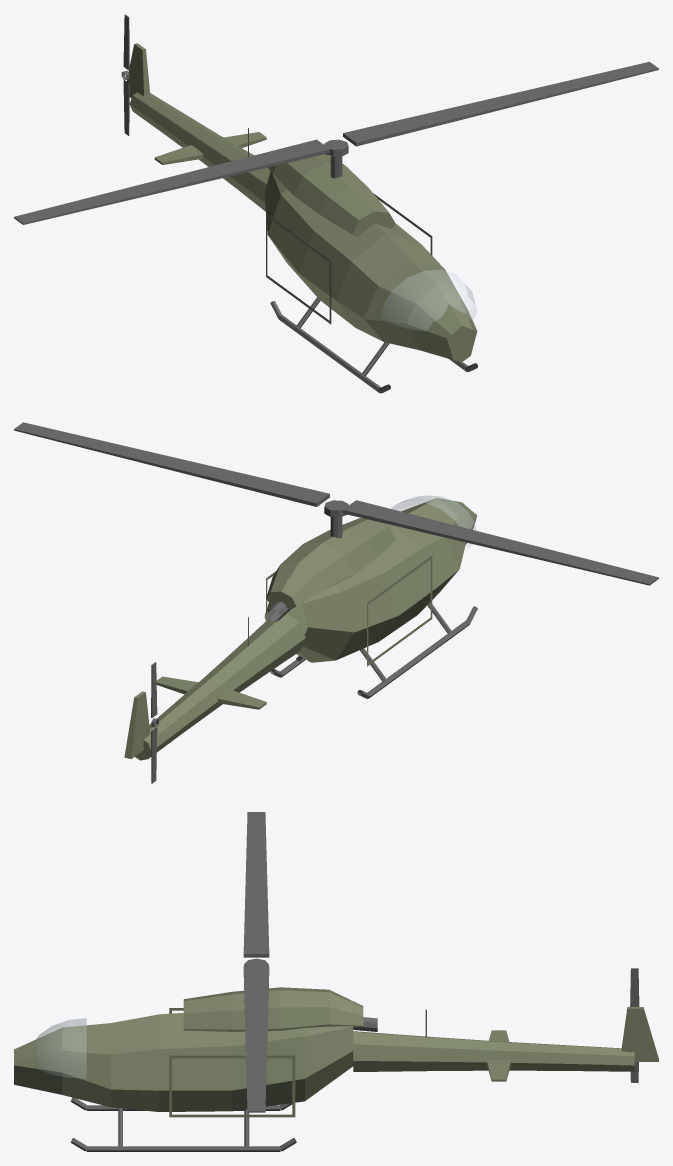
Rendered from uh1_huey.glb.
3 renders of one model, top to bottom at view 1: azimuth 30°, elevation 25°; view 2: azimuth 150°, elevation 25°; view 3: azimuth 270°, elevation 25°, orthographic. The views are drawn at different scales.
Parts seen in each view (by area): view 1: Fuselage, Main_Rotor, Engine_Cowling, TailBoom, Cockpit_Bubble, Landing_Skids, Cabin_Doors, H_Stabilizer, V_Fin, Tail_Rotor; view 2: Fuselage, Main_Rotor, TailBoom, Engine_Cowling, Landing_Skids, V_Fin, Cockpit_Bubble, H_Stabilizer, Cabin_Doors, Tail_Rotor; view 3: Fuselage, TailBoom, Main_Rotor, Engine_Cowling, Cockpit_Bubble, Landing_Skids, V_Fin, Cabin_Doors, H_Stabilizer, Tail_Rotor.
Boxes of the visible parts, box(x1,y1,x2,y2) form: Fuselage: box(264, 147, 477, 361); Main_Rotor: box(14, 61, 658, 224); Engine_Cowling: box(268, 154, 395, 236); TailBoom: box(129, 92, 270, 211); Cockpit_Bubble: box(381, 270, 476, 330); Landing_Skids: box(270, 297, 477, 393); Cabin_Doors: box(266, 193, 432, 324); H_Stabilizer: box(154, 132, 266, 164); V_Fin: box(126, 43, 150, 98); Tail_Rotor: box(121, 14, 129, 135); Fuselage: box(264, 498, 477, 662); Main_Rotor: box(14, 422, 658, 585); TailBoom: box(135, 613, 305, 760); Engine_Cowling: box(266, 518, 395, 608); Landing_Skids: box(270, 602, 477, 698); V_Fin: box(124, 691, 150, 758); Cockpit_Bubble: box(391, 495, 476, 548); H_Stabilizer: box(156, 676, 266, 709); Cabin_Doors: box(266, 555, 432, 666); Tail_Rotor: box(151, 662, 158, 783); Fuselage: box(14, 1001, 353, 1111); TailBoom: box(353, 1031, 634, 1071); Main_Rotor: box(243, 812, 269, 1112); Engine_Cowling: box(183, 987, 363, 1031); Cockpit_Bubble: box(34, 1018, 86, 1078); Landing_Skids: box(70, 1097, 296, 1151); V_Fin: box(621, 1007, 658, 1061); Cabin_Doors: box(169, 1008, 295, 1117); H_Stabilizer: box(487, 1030, 510, 1081); Tail_Rotor: box(630, 968, 639, 1082).
Bounding box in the file's own units: 14.6 × 3.88 × 13.3.
